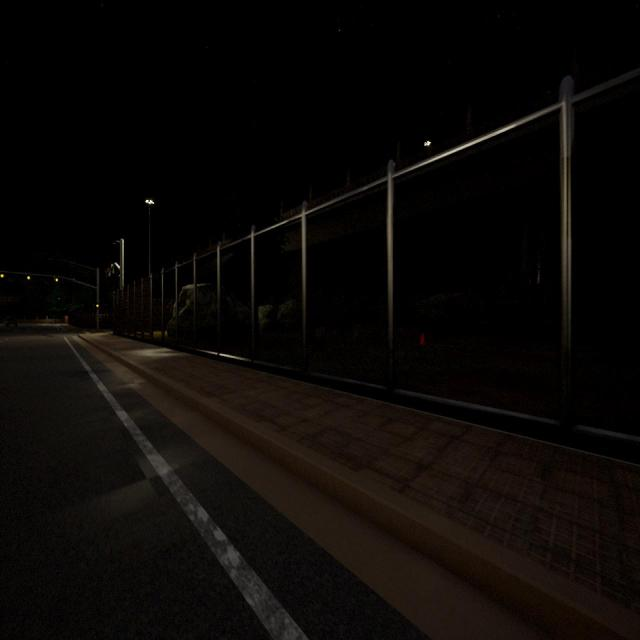Vehicle: (4, 313, 23, 333)
traffic_light: (0, 272, 4, 279), (96, 302, 99, 310), (27, 274, 30, 281), (55, 276, 58, 283)
